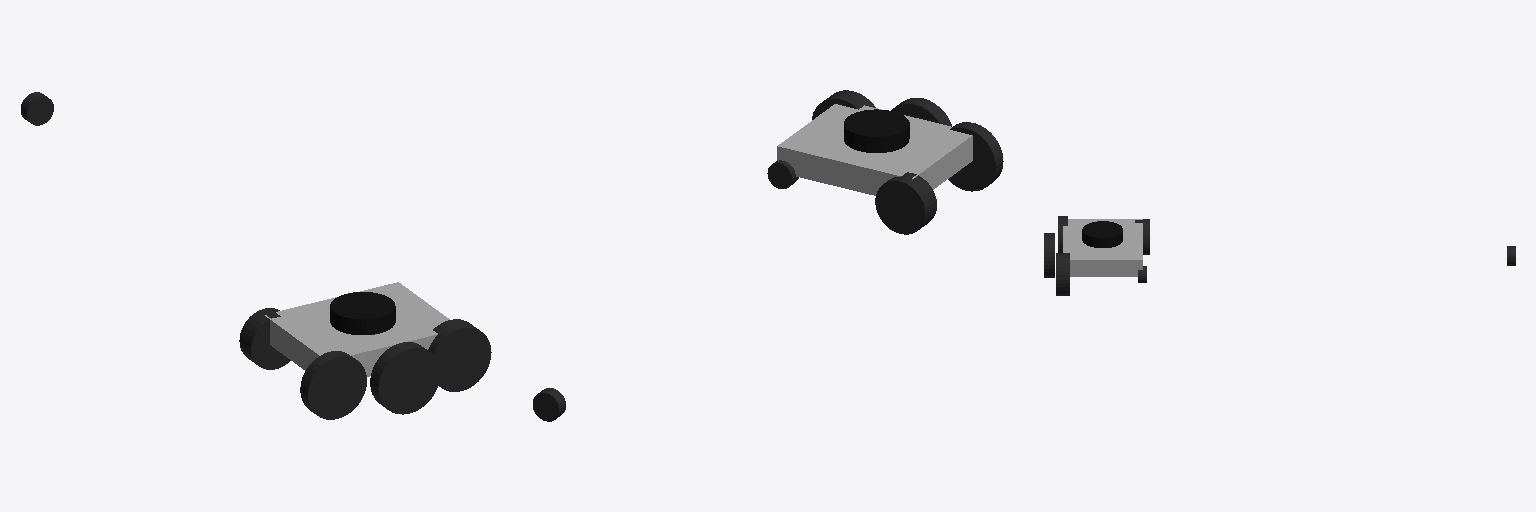
The robot description file, URDF, robot "evolved_robot":
<?xml version="1.0"?>
<robot name="evolved_robot">
  <material name="metal">
    <color rgba="0.7 0.7 0.7 1.0"/>
  </material>
  <material name="plastic">
    <color rgba="0.3 0.3 0.9 1.0"/>
  </material>
  <material name="rubber">
    <color rgba="0.1 0.1 0.1 1.0"/>
  </material>
  <material name="red">
    <color rgba="1.0 0.0 0.0 1.0"/>
  </material>
  <material name="wheel_material">
    <color rgba="0.2 0.2 0.2 1.0"/>
  </material>
  <link name="base_link">
    <visual>
      <geometry><box size="0.4229596400917953 0.3446729242588785 0.07690886759529983"/></geometry>
      <material name="metal"/>
    </visual>
    <collision>
      <geometry><box size="0.4229596400917953 0.3446729242588785 0.07690886759529983"/></geometry>
    </collision>
    <inertial>
      <mass value="5.0"/>
      <inertia ixx="0.10392866552663164" ixy="0" ixz="0" 
               iyy="0.15400819255114367" iyz="0" 
               izz="0.24807856821978969"/>
    </inertial>
  </link>
  <link name="link1">
    <visual>
      <geometry>
        <cylinder radius="0.03842956847556405" length="0.040573280776250026"/>
      </geometry>
      <material name="wheel_material"/>
    </visual>
    <collision>
      <geometry>
        <cylinder radius="0.03842956847556405" length="0.040573280776250026"/>
      </geometry>
    </collision>
    <inertial>
      <mass value="1.0"/>
      <inertia ixx="0.0005063905260502182" ixy="0" ixz="0" 
               iyy="0.0005063905260502182" iyz="0" 
               izz="0.0007384158666090331"/>
    </inertial>
  </link>
  <joint name="joint1" type="prismatic">
    <parent link="base_link"/>
    <child link="link1"/>
    <origin xyz="0.19147982004589767 0.17233646212943926 -0.038454433797649915" rpy="1.5708 0 0"/>
    <axis xyz="0 1 0"/>
    <dynamics damping="0.9620773342175082" friction="0.1"/>
  </joint>
  <link name="link2">
    <visual>
      <geometry>
        <cylinder radius="0.09411244893630778" length="0.06357497189143543"/>
      </geometry>
      <material name="wheel_material"/>
    </visual>
    <collision>
      <geometry>
        <cylinder radius="0.09411244893630778" length="0.06357497189143543"/>
      </geometry>
    </collision>
    <inertial>
      <mass value="1.0"/>
      <inertia ixx="0.002551103015447019" ixy="0" ixz="0" 
               iyy="0.002551103015447019" iyz="0" 
               izz="0.00442857652239457"/>
    </inertial>
  </link>
  <joint name="joint2" type="floating">
    <parent link="base_link"/>
    <child link="link2"/>
    <origin xyz="0.19147982004589767 -0.17233646212943926 -0.038454433797649915" rpy="1.5708 0 0"/>
    <axis xyz="0 1 0"/>
    <dynamics damping="0.9511788792221783" friction="0.1"/>
  </joint>
  <link name="link3">
    <visual>
      <geometry>
        <cylinder radius="0.07843540050517425" length="0.06346825080929239"/>
      </geometry>
      <material name="wheel_material"/>
    </visual>
    <collision>
      <geometry>
        <cylinder radius="0.07843540050517425" length="0.06346825080929239"/>
      </geometry>
    </collision>
    <inertial>
      <mass value="1.0"/>
      <inertia ixx="0.0018737129181677094" ixy="0" ixz="0" 
               iyy="0.0018737129181677094" iyz="0" 
               izz="0.0030760560262035447"/>
    </inertial>
  </link>
  <joint name="joint3" type="continuous">
    <parent link="base_link"/>
    <child link="link3"/>
    <origin xyz="-0.19147982004589767 0.17233646212943926 -0.038454433797649915" rpy="1.5708 0 0"/>
    <axis xyz="0 1 0"/>
    <dynamics damping="0.7850074824219392" friction="0.1"/>
  </joint>
  <link name="link4">
    <visual>
      <geometry>
        <cylinder radius="0.09302128140791992" length="0.04117632854146757"/>
      </geometry>
      <material name="wheel_material"/>
    </visual>
    <collision>
      <geometry>
        <cylinder radius="0.09302128140791992" length="0.04117632854146757"/>
      </geometry>
    </collision>
    <inertial>
      <mass value="1.0"/>
      <inertia ixx="0.0023045305347057636" ixy="0" ixz="0" 
               iyy="0.0023045305347057636" iyz="0" 
               izz="0.004326479397385714"/>
    </inertial>
  </link>
  <joint name="joint4" type="continuous">
    <parent link="base_link"/>
    <child link="link4"/>
    <origin xyz="-0.19147982004589767 -0.17233646212943926 -0.038454433797649915" rpy="1.5708 0 0"/>
    <axis xyz="0 1 0"/>
    <dynamics damping="0.724065632719656" friction="0.1"/>
  </joint>
  <link name="link5">
    <visual>
      <geometry><cylinder radius="0.08881825082730221" length="0.0960845816393998"/></geometry>
      <material name="rubber"/>
    </visual>
    <collision>
      <geometry><cylinder radius="0.08881825082730221" length="0.0960845816393998"/></geometry>
    </collision>
    <inertial>
      <mass value="0.5"/>
      <inertia ixx="0.002741524322406933" ixy="0" ixz="0" 
               iyy="0.002741524322406933" iyz="0" 
               izz="0.003944340840010785"/>
    </inertial>
  </link>
  <joint name="joint5" type="revolute">
    <parent link="base_link"/>
    <child link="link5"/>
    <origin xyz="0 0 0.038454433797649915" rpy="0 0 0"/>
    <axis xyz="0.0 0.7454133210911001 0.6666025658065954"/>
    <dynamics damping="0.6399789341093577" friction="0.1"/>
    <limit lower="-0.827567834315494" upper="1.283811247704254" effort="100" velocity="100"/>
  </joint>
  <link name="link6">
    <visual>
      <geometry>
        <cylinder radius="0.09728576832582488" length="0.04546005297529622"/>
      </geometry>
      <material name="wheel_material"/>
    </visual>
    <collision>
      <geometry>
        <cylinder radius="0.09728576832582488" length="0.04546005297529622"/>
      </geometry>
    </collision>
    <inertial>
      <mass value="1.0"/>
      <inertia ixx="0.0025383482143962457" ixy="0" ixz="0" 
               iyy="0.0025383482143962457" iyz="0" 
               izz="0.004732260359373035"/>
    </inertial>
  </link>
  <joint name="joint6" type="continuous">
    <parent link="base_link"/>
    <child link="link6"/>
    <origin xyz="0 -0.22978194950591901 -0.038454433797649915" rpy="1.5708 0 0"/>
    <axis xyz="0 1 0"/>
    <dynamics damping="0.9384190659020333" friction="0.1"/>
  </joint>
  <link name="link7">
    <visual>
      <geometry>
        <cylinder radius="0.04224674775365732" length="0.03656617970180511"/>
      </geometry>
      <material name="wheel_material"/>
    </visual>
    <collision>
      <geometry>
        <cylinder radius="0.04224674775365732" length="0.03656617970180511"/>
      </geometry>
    </collision>
    <inertial>
      <mass value="1.0"/>
      <inertia ixx="0.0005576207154390127" ixy="0" ixz="0" 
               iyy="0.0005576207154390127" iyz="0" 
               izz="0.0008923938478805748"/>
    </inertial>
  </link>
  <joint name="joint7" type="continuous">
    <parent link="base_link"/>
    <child link="link7"/>
    <origin xyz="0 1.770218050494081 -0.038454433797649915" rpy="1.5708 0 0"/>
    <axis xyz="0 1 0"/>
    <dynamics damping="0.1" friction="0.1"/>
  </joint>
</robot>

--- Facts derived from the render (not from the file) ---
Views: 3 orthographic renders of the robot side by side, from view 1: azimuth 30°, elevation 25°; view 2: azimuth 150°, elevation 25°; view 3: azimuth 270°, elevation 25°.
Model evolved_robot with 8 links and 7 joints (1 revolute, 4 continuous, 1 prismatic, 1 floating), rooted at base_link, posed every joint at zero.
Visible links, largest first — view 1: base_link, link6, link4, link2, link5, link3, link7; view 2: base_link, link3, link5, link4, link6, link7, link2, link1; view 3: base_link, link5, link2.
Boxes of the visible links, x1,y1,x2,y2 form: base_link: (264, 282, 449, 376); link6: (370, 342, 439, 414); link4: (300, 351, 366, 419); link2: (428, 319, 491, 391); link5: (330, 292, 395, 334); link3: (239, 308, 290, 369); link7: (21, 92, 53, 125); base_link: (777, 104, 972, 195); link3: (875, 172, 936, 234); link5: (844, 109, 909, 152); link4: (948, 122, 1003, 191); link6: (891, 98, 951, 126); link7: (533, 388, 565, 421); link2: (812, 90, 875, 119); link1: (767, 160, 798, 188); base_link: (1063, 219, 1142, 276); link5: (1082, 221, 1122, 247); link2: (1056, 253, 1069, 295).
Size in the robot's own frame: 0.5701 by 2.04 by 0.2222 metres.
Geometry: primitives only (box / cylinder / sphere), no mesh files.